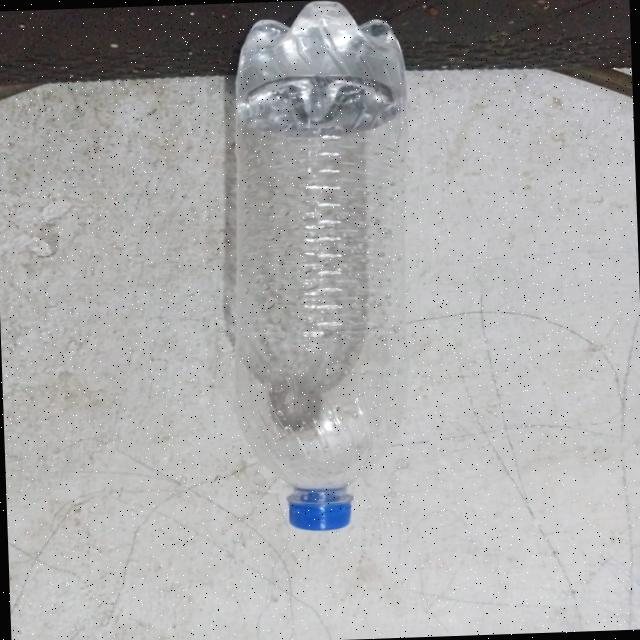bottle: (191, 0, 438, 554)
cap: (275, 486, 358, 538)
